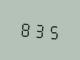eight: (18, 18, 31, 39)
five: (47, 20, 60, 41)
three: (33, 19, 46, 40)
